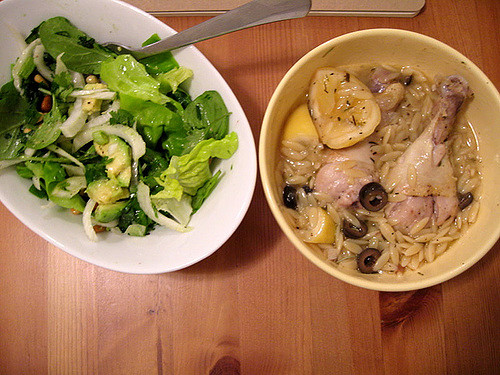chopped lettuce: (29, 38, 203, 207)
